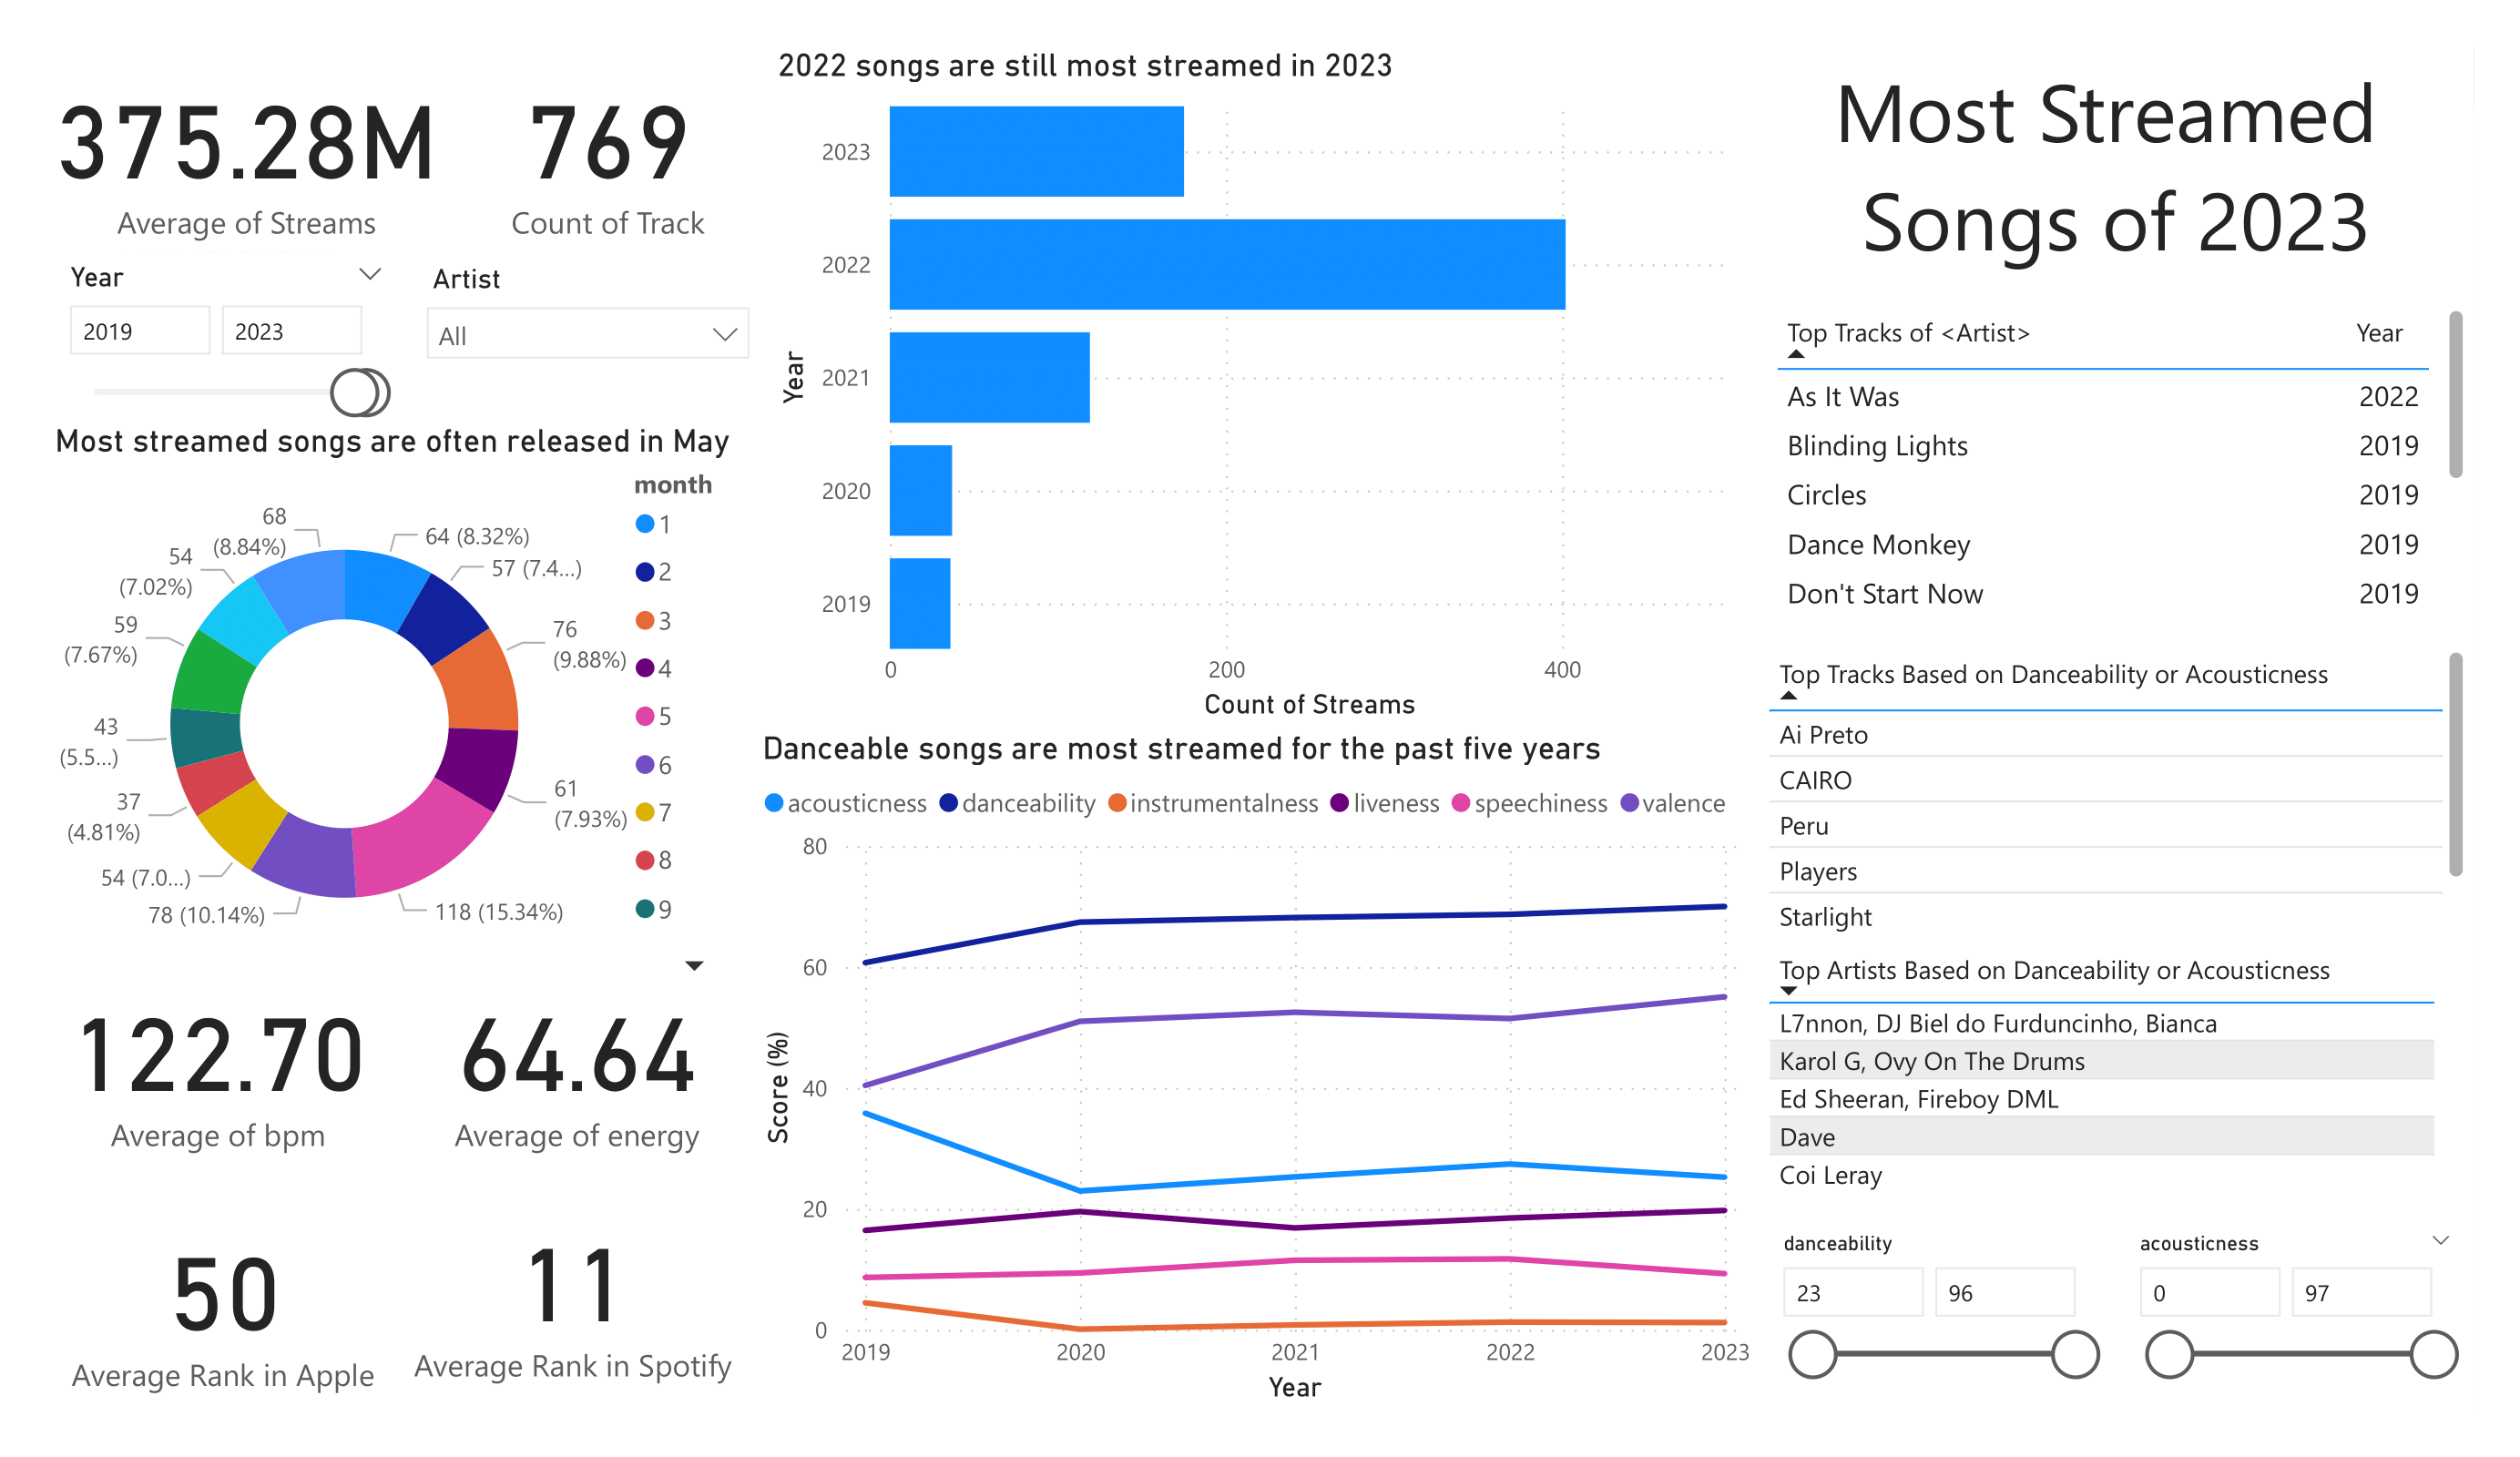

The page's visual inventory and layout, read from the dashboard file:
{"tool":"powerbi","page":{"name":"Page 1","canvas":[1280,720],"ordinal":0},"visuals":[{"type":"card","fields":{"Values":["Sum(Most Stream Songs.streams)"]},"box":[0,0,191.5,144.8],"z":0},{"type":"slicer","fields":{"Values":["Most Streamed Songs.year"]},"box":[0,134.1,191.5,102.1],"z":1000},{"type":"card","fields":{"Values":["Avg(Most Streamed Songs.streams)"]},"box":[0,0,211.9,108.9],"z":2000},{"type":"card","fields":{"Values":["CountNonNull(Most Streamed Songs.track)"]},"box":[211.9,0,169.1,108.9],"z":3000},{"type":"slicer","fields":{"Values":["Most Streamed Songs.year"]},"box":[0,108.9,190.5,168.1],"z":4000},{"type":"slicer","fields":{"Values":["Most Streamed Songs.artist"]},"box":[191.5,109.8,189.5,88.4],"z":5000},{"type":"tableEx","fields":{"Values":["Most Streamed Songs.track","Most Streamed Songs.Year"]},"box":[907,134,373,180],"z":6000},{"type":"lineChart","title":"Danceable songs are most streamed for the past five years","fields":{"Category":["Most Streamed Songs.Year"],"Y":["Avg(Most Streamed Songs.acousticness)","Avg(Most Streamed Songs.danceability)","Avg(Most Streamed Songs.instrumentalness)","Avg(Most Streamed Songs.liveness)","Avg(Most Streamed Songs.speechiness)","Avg(Most Streamed Songs.valence)"]},"box":[373.2,359.6,529.7,360.6],"z":7000},{"type":"card","fields":{"Values":["Avg(Most Streamed Songs.in_apple_charts)"]},"box":[0,603.6,186.6,116.6],"z":8000},{"type":"card","fields":{"Values":["Avg(Most Streamed Songs.energy)"]},"box":[186.6,477.2,186.6,116.6],"z":9000},{"type":"card","fields":{"Values":["Avg(Most Streamed Songs.in_spotify_charts)"]},"box":[182.7,593.8,190.5,126.3],"z":10000},{"type":"card","fields":{"Values":["Avg(Most Streamed Songs.bpm)"]},"box":[0,472.3,181.7,126.3],"z":11000},{"type":"donutChart","title":"Most streamed songs are often released in May","fields":{"Category":["Most Streamed Songs.month"],"Y":["CountNonNull(Most Streamed Songs.Track)"]},"box":[0,198,377,300],"z":12000},{"type":"tableEx","fields":{"Values":["Most Streamed Songs.Track"]},"box":[903,314,377,158],"z":13000},{"type":"slicer","fields":{"Values":["Most Streamed Songs.danceability"]},"box":[902.9,620.1,188.5,100.1],"z":14000},{"type":"tableEx","fields":{"Values":["Most Streamed Songs.Artist"]},"box":[903,472,377,143],"z":15000},{"type":"slicer","fields":{"Values":["Most Streamed Songs.acousticness"]},"box":[1091.5,620.1,188.5,100.1],"z":16000},{"type":"barChart","title":"2022 songs are still most streamed in 2023","fields":{"Category":["Most Streamed Songs.Year"],"Y":["CountNonNull(Most Streamed Songs.Streams)"]},"box":[381,0,521.9,359.6],"z":17000},{"type":"textbox","box":[903,0,377,134],"z":17001}]}

Visuals, with their boxes on the page's 1280x720 design canvas (x1, y1, x2, y2). These are canvas units, not pixel positions in the 2520x1457 screenshot, which may show the page scaled, cropped or inside an application window:
card - Sum(Most Stream Songs.streams): bbox(0, 0, 192, 145)
slicer - Most Streamed Songs.year: bbox(0, 134, 192, 236)
card - Avg(Most Streamed Songs.streams): bbox(0, 0, 212, 109)
card - CountNonNull(Most Streamed Songs.track): bbox(212, 0, 381, 109)
slicer - Most Streamed Songs.year: bbox(0, 109, 190, 277)
slicer - Most Streamed Songs.artist: bbox(192, 110, 381, 198)
tableEx - Most Streamed Songs.track x Most Streamed Songs.Year: bbox(907, 134, 1280, 314)
"Danceable songs are most streamed for the past five years" lineChart: bbox(373, 360, 903, 720)
card - Avg(Most Streamed Songs.in_apple_charts): bbox(0, 604, 187, 720)
card - Avg(Most Streamed Songs.energy): bbox(187, 477, 373, 594)
card - Avg(Most Streamed Songs.in_spotify_charts): bbox(183, 594, 373, 720)
card - Avg(Most Streamed Songs.bpm): bbox(0, 472, 182, 599)
"Most streamed songs are often released in May" donutChart: bbox(0, 198, 377, 498)
tableEx - Most Streamed Songs.Track: bbox(903, 314, 1280, 472)
slicer - Most Streamed Songs.danceability: bbox(903, 620, 1091, 720)
tableEx - Most Streamed Songs.Artist: bbox(903, 472, 1280, 615)
slicer - Most Streamed Songs.acousticness: bbox(1092, 620, 1280, 720)
"2022 songs are still most streamed in 2023" barChart: bbox(381, 0, 903, 360)
textbox: bbox(903, 0, 1280, 134)
